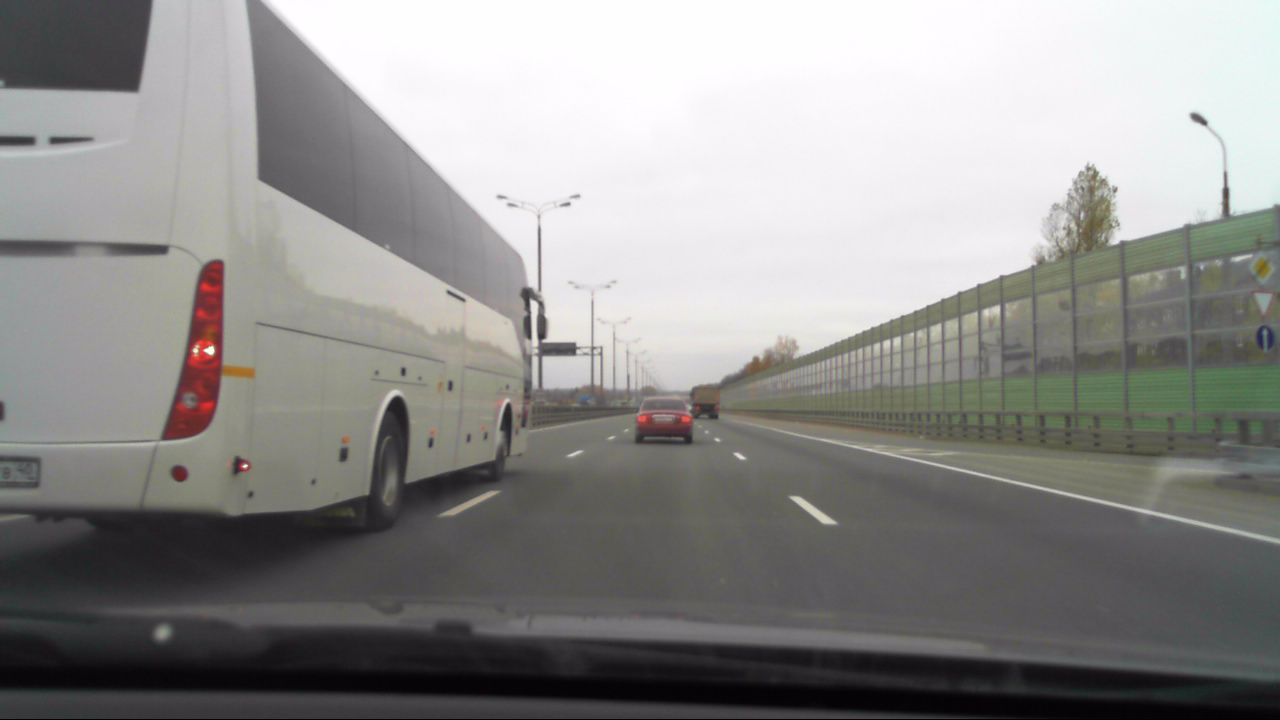main road: (1246, 251, 1276, 285)
